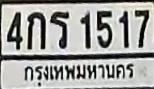1: (118, 10, 128, 47), (79, 11, 89, 48)
4: (6, 11, 22, 49)
5: (96, 10, 111, 47)
7: (134, 9, 148, 47)
A01: (26, 11, 45, 49)
A35: (49, 11, 69, 48)
BKK: (21, 61, 137, 86)
